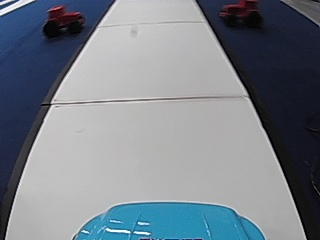tractor: (41, 3, 85, 39), (218, 0, 259, 29)
